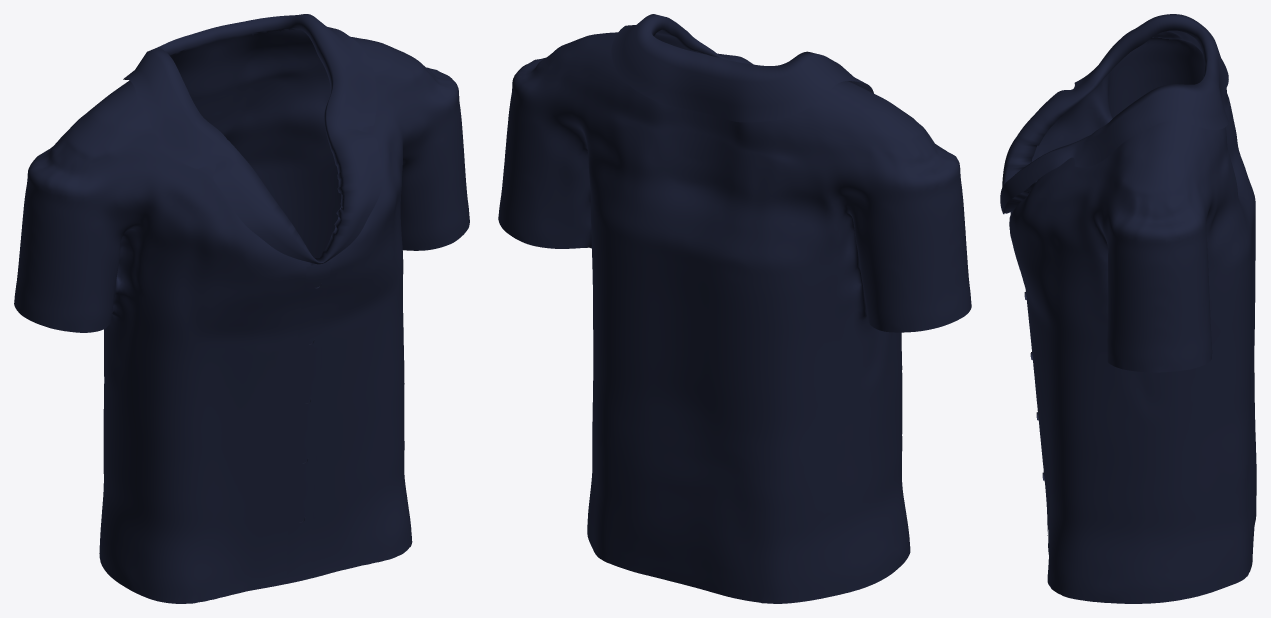
The model's file is cuban-male.glb.
The picture shows the model from 3 angles, left to right: view 1: azimuth 30°, elevation 25°; view 2: azimuth 150°, elevation 25°; view 3: azimuth 270°, elevation 25°; orthographic projection. The views are drawn at different scales.
Visible parts, largest first — view 1: AoCuban2_Nam; view 2: AoCuban2_Nam; view 3: AoCuban2_Nam.
Part boxes in pixels (bbox=[...]): AoCuban2_Nam: bbox=[14, 14, 469, 603]; AoCuban2_Nam: bbox=[498, 14, 971, 603]; AoCuban2_Nam: bbox=[1000, 14, 1256, 603].
Bounding box in the file's own units: 0.6369 × 0.6888 × 0.328.
